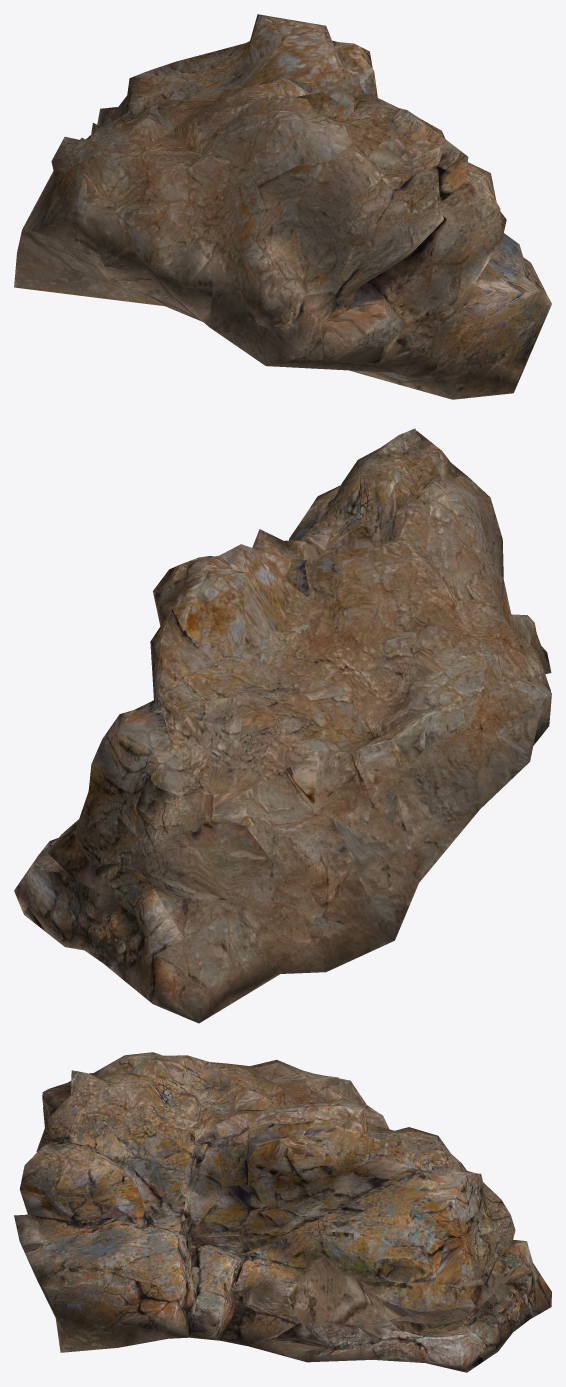
Rendered from prock_a.glb.
3 views of the same model, one above another, from view 1: azimuth 30°, elevation 25°; view 2: azimuth 150°, elevation 25°; view 3: azimuth 270°, elevation 25° (orthographic). The views are drawn at different scales.
Visible parts, largest first — view 1: prock_a; view 2: prock_a; view 3: prock_a.
Boxes of the visible parts, bbox=[...] form: prock_a: bbox=[14, 14, 551, 399]; prock_a: bbox=[14, 428, 551, 1023]; prock_a: bbox=[14, 1052, 551, 1372].
Size of the model in its own units: 1.55 by 1.22 by 2.2.
1 material, 1 textured.
